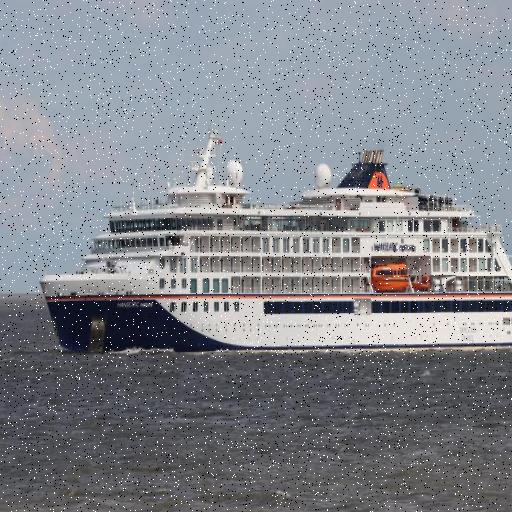cruises: (36, 126, 512, 362)
